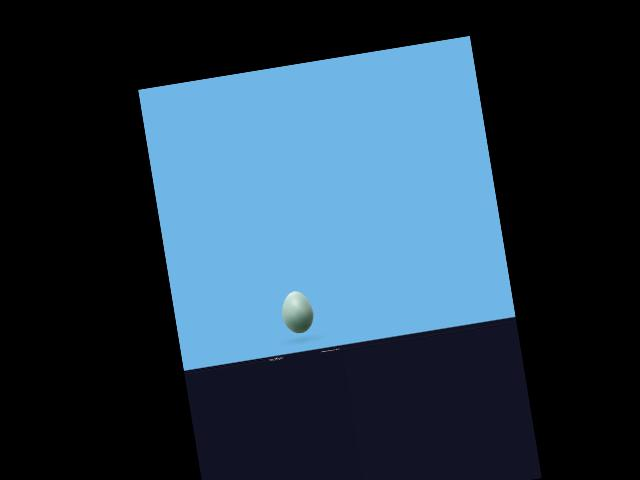egg: (279, 288, 316, 335)
